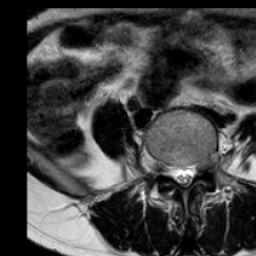CCS_stenosis: (180, 152, 188, 196)
LFS_normal: (198, 145, 210, 179)
LLS_normal: (188, 151, 198, 189)
RFS_normal: (158, 148, 170, 186)
RLS_normal: (170, 151, 180, 191)
